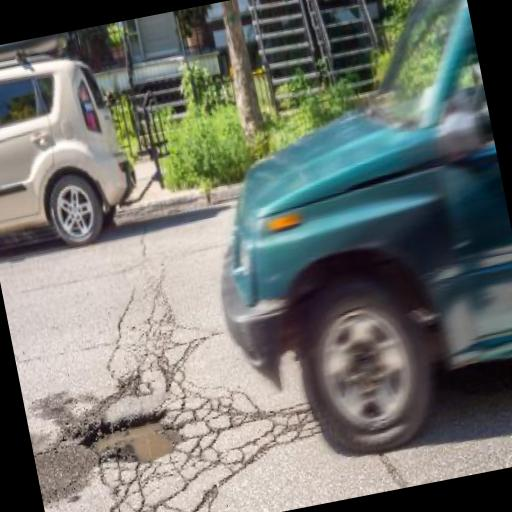pothole: (74, 404, 186, 472)
